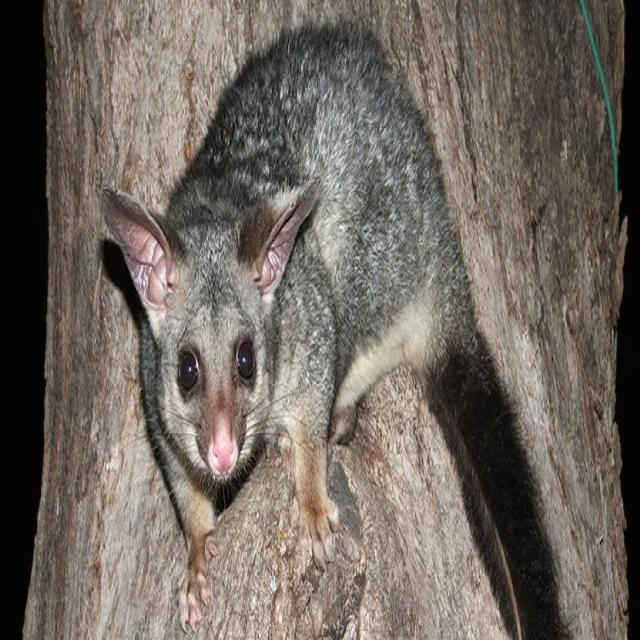Possum: (94, 21, 480, 549)
